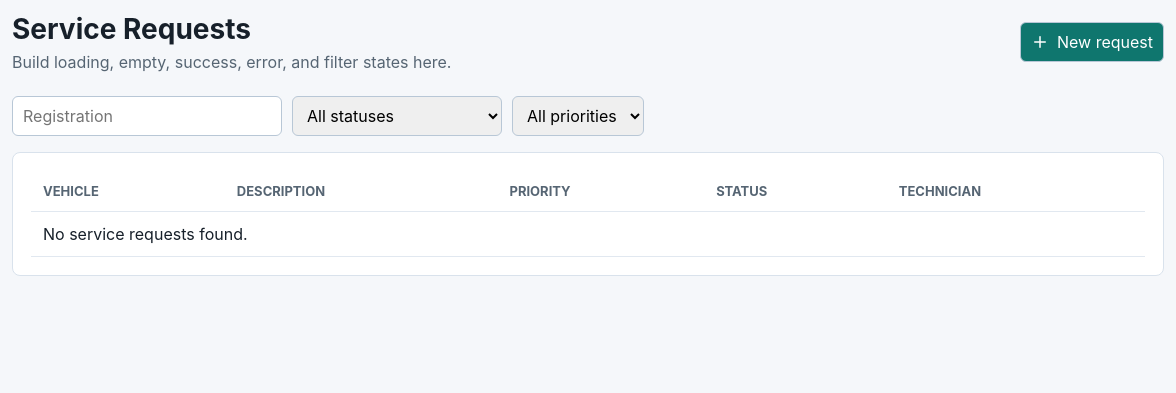
Test: ServiceRequestsPage training exercises › shows a loading state while the request is being created
The image size is (1176, 393).
Click the button "New request" at (1092, 42), box [1020,22,1164,62]
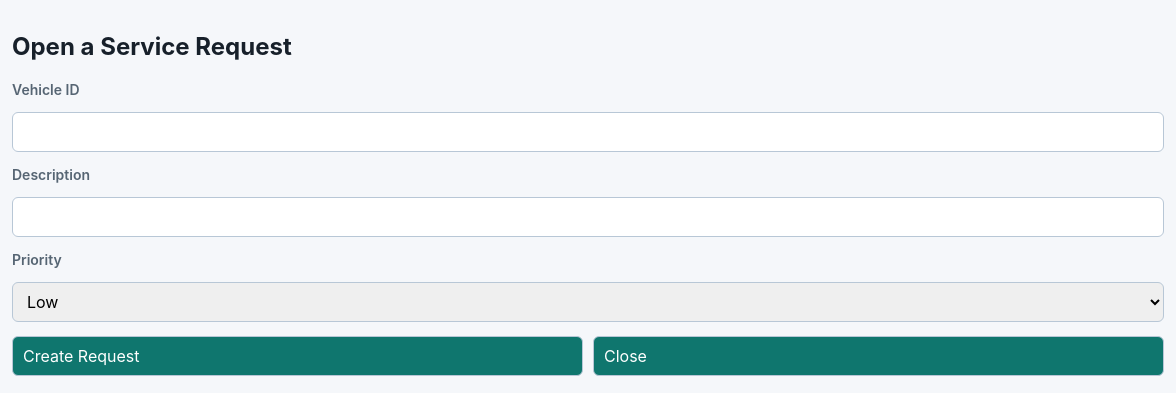
Type "550e8400-e29b-41d4-a716-446655440000" into the field labelled "Vehicle ID" at (588, 132), box [12,112,1164,152]
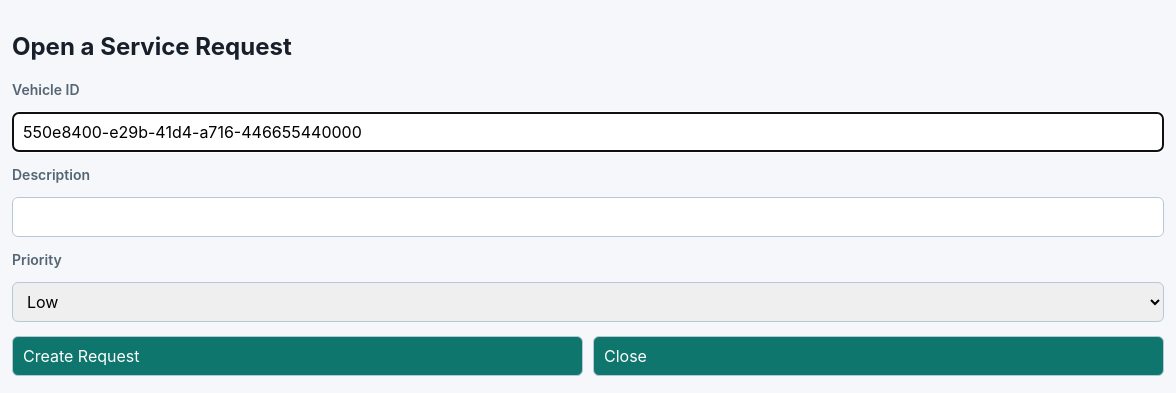
Type "Investigate brake noise" into the field labelled "Description" at (588, 217), box [12,197,1164,237]
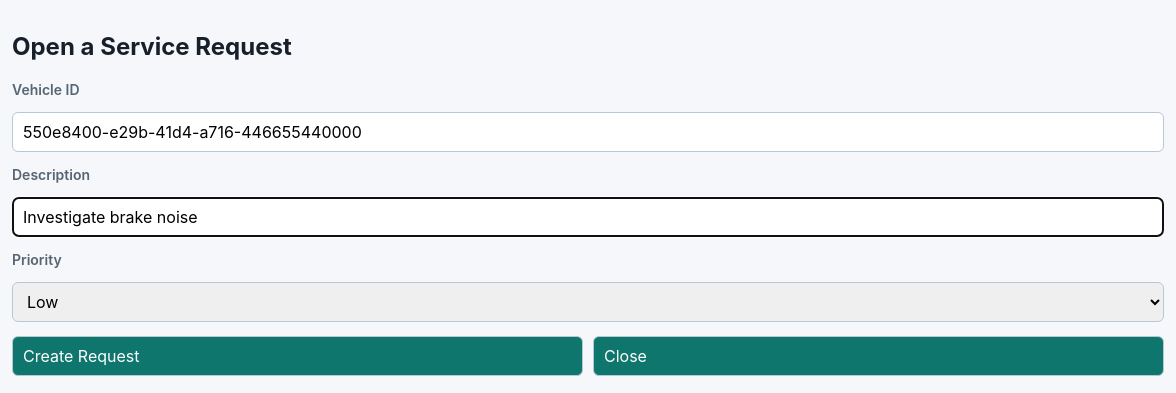
Select "Urgent" in the dropdown labelled "Priority" at (588, 302), box [12,282,1164,322]
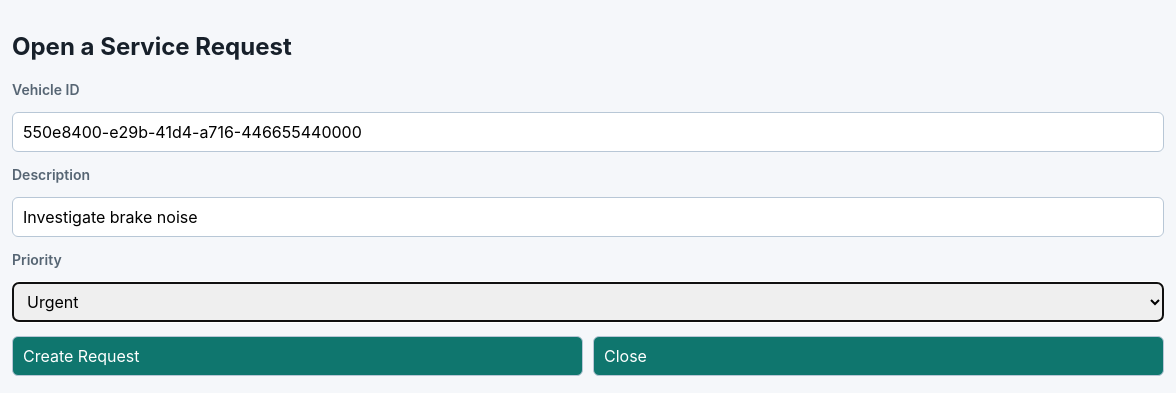
Click the button "Create Request" at (81, 356), box [12,336,583,376]
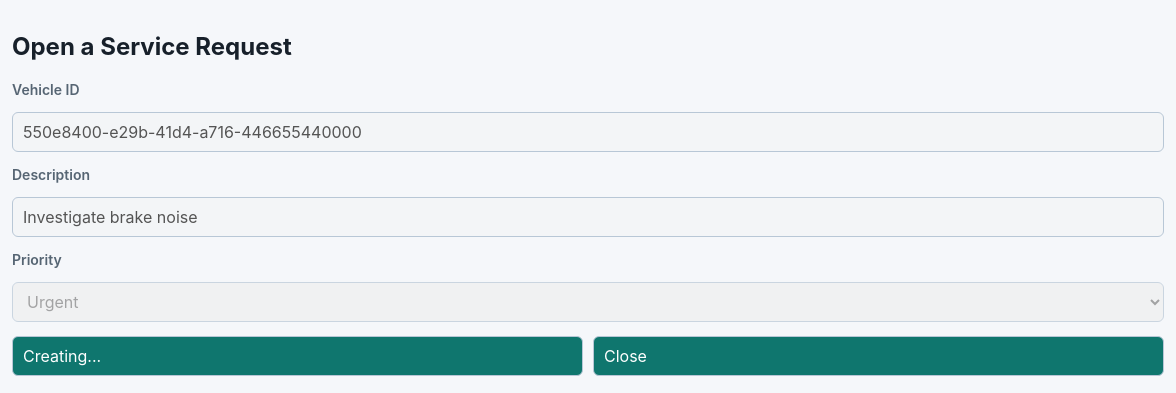
Expected: the button "Close" is disabled, [593,336,1164,376]
Expected: the button "Creating..." is disabled, [12,336,583,376]
